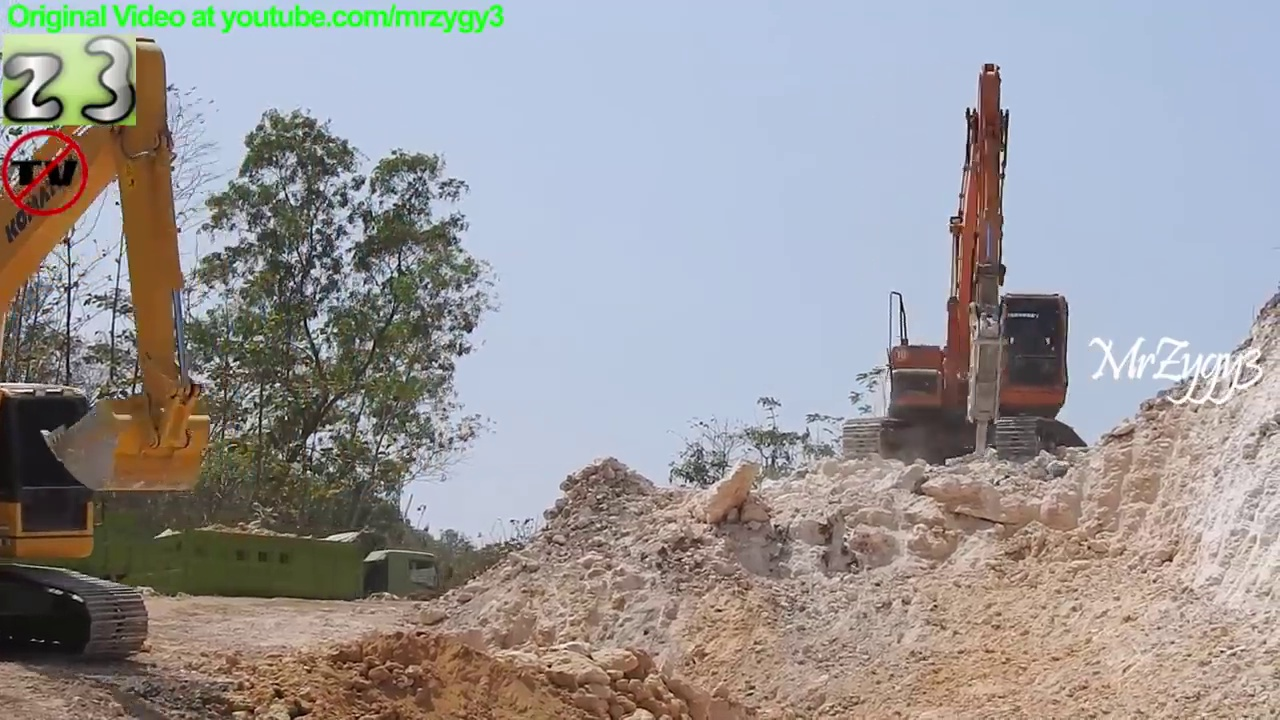excavator: (1, 28, 222, 676), (838, 59, 1095, 489)
truck: (133, 521, 460, 638), (1, 498, 148, 613)
